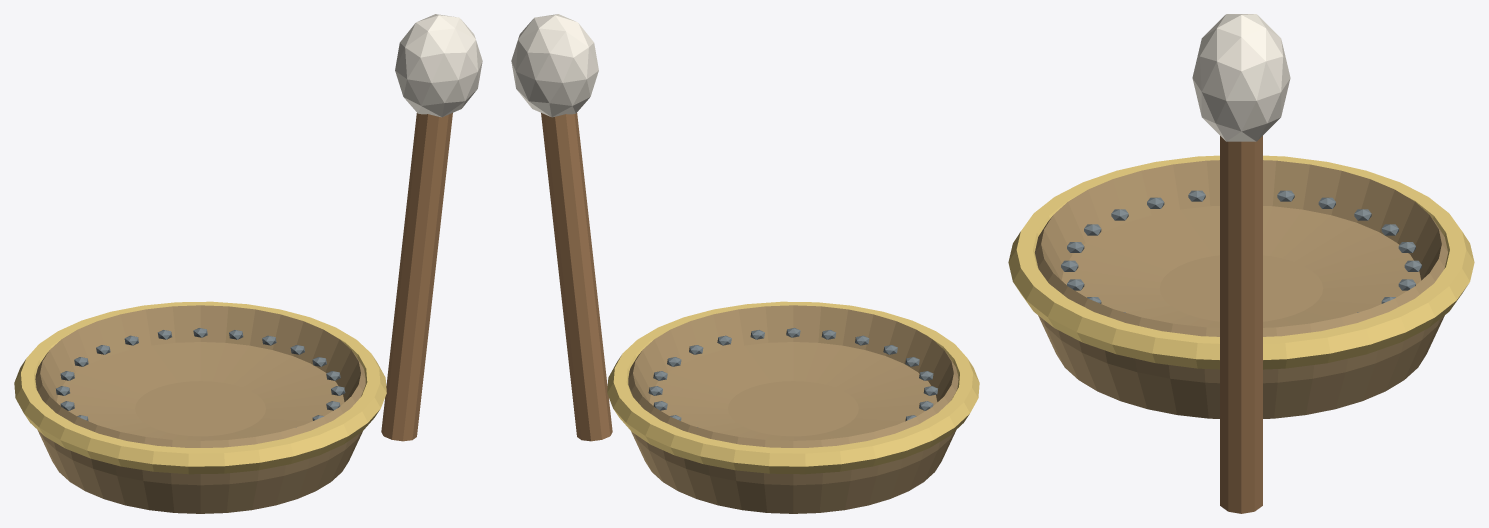
The model's file is gakki_atarigane.glb.
The picture shows the model from 3 angles, left to right: view 1: azimuth 30°, elevation 25°; view 2: azimuth 150°, elevation 25°; view 3: azimuth 270°, elevation 25°; orthographic projection. The views are drawn at different scales.
Visible parts, largest first — view 1: Hand cast atarigane gong, Bell forge rim, Fine metal gong clapper, Gong mallet padded striking head; view 2: Hand cast atarigane gong, Bell forge rim, Fine metal gong clapper, Gong mallet padded striking head; view 3: Hand cast atarigane gong, Bell forge rim, Fine metal gong clapper, Gong mallet padded striking head.
Part boxes in pixels (x1=…): Hand cast atarigane gong: x1=35, y1=305, x2=365, y2=513; Bell forge rim: x1=14, y1=301, x2=386, y2=474; Fine metal gong clapper: x1=381, y1=113, x2=452, y2=441; Gong mallet padded striking head: x1=395, y1=14, x2=482, y2=117; Hand cast atarigane gong: x1=628, y1=305, x2=958, y2=513; Bell forge rim: x1=607, y1=301, x2=979, y2=474; Fine metal gong clapper: x1=541, y1=113, x2=612, y2=441; Gong mallet padded striking head: x1=511, y1=14, x2=598, y2=117; Hand cast atarigane gong: x1=1035, y1=160, x2=1447, y2=418; Bell forge rim: x1=1008, y1=155, x2=1474, y2=369; Fine metal gong clapper: x1=1220, y1=136, x2=1262, y2=513; Gong mallet padded striking head: x1=1192, y1=14, x2=1290, y2=141.
Size of the model in its own units: 1.95 by 1.75 by 1.44.
